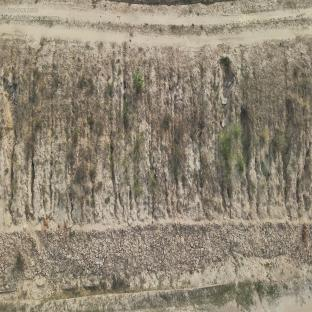rock_toe: (0, 220, 311, 287)
toe_drain: (0, 270, 234, 304)
